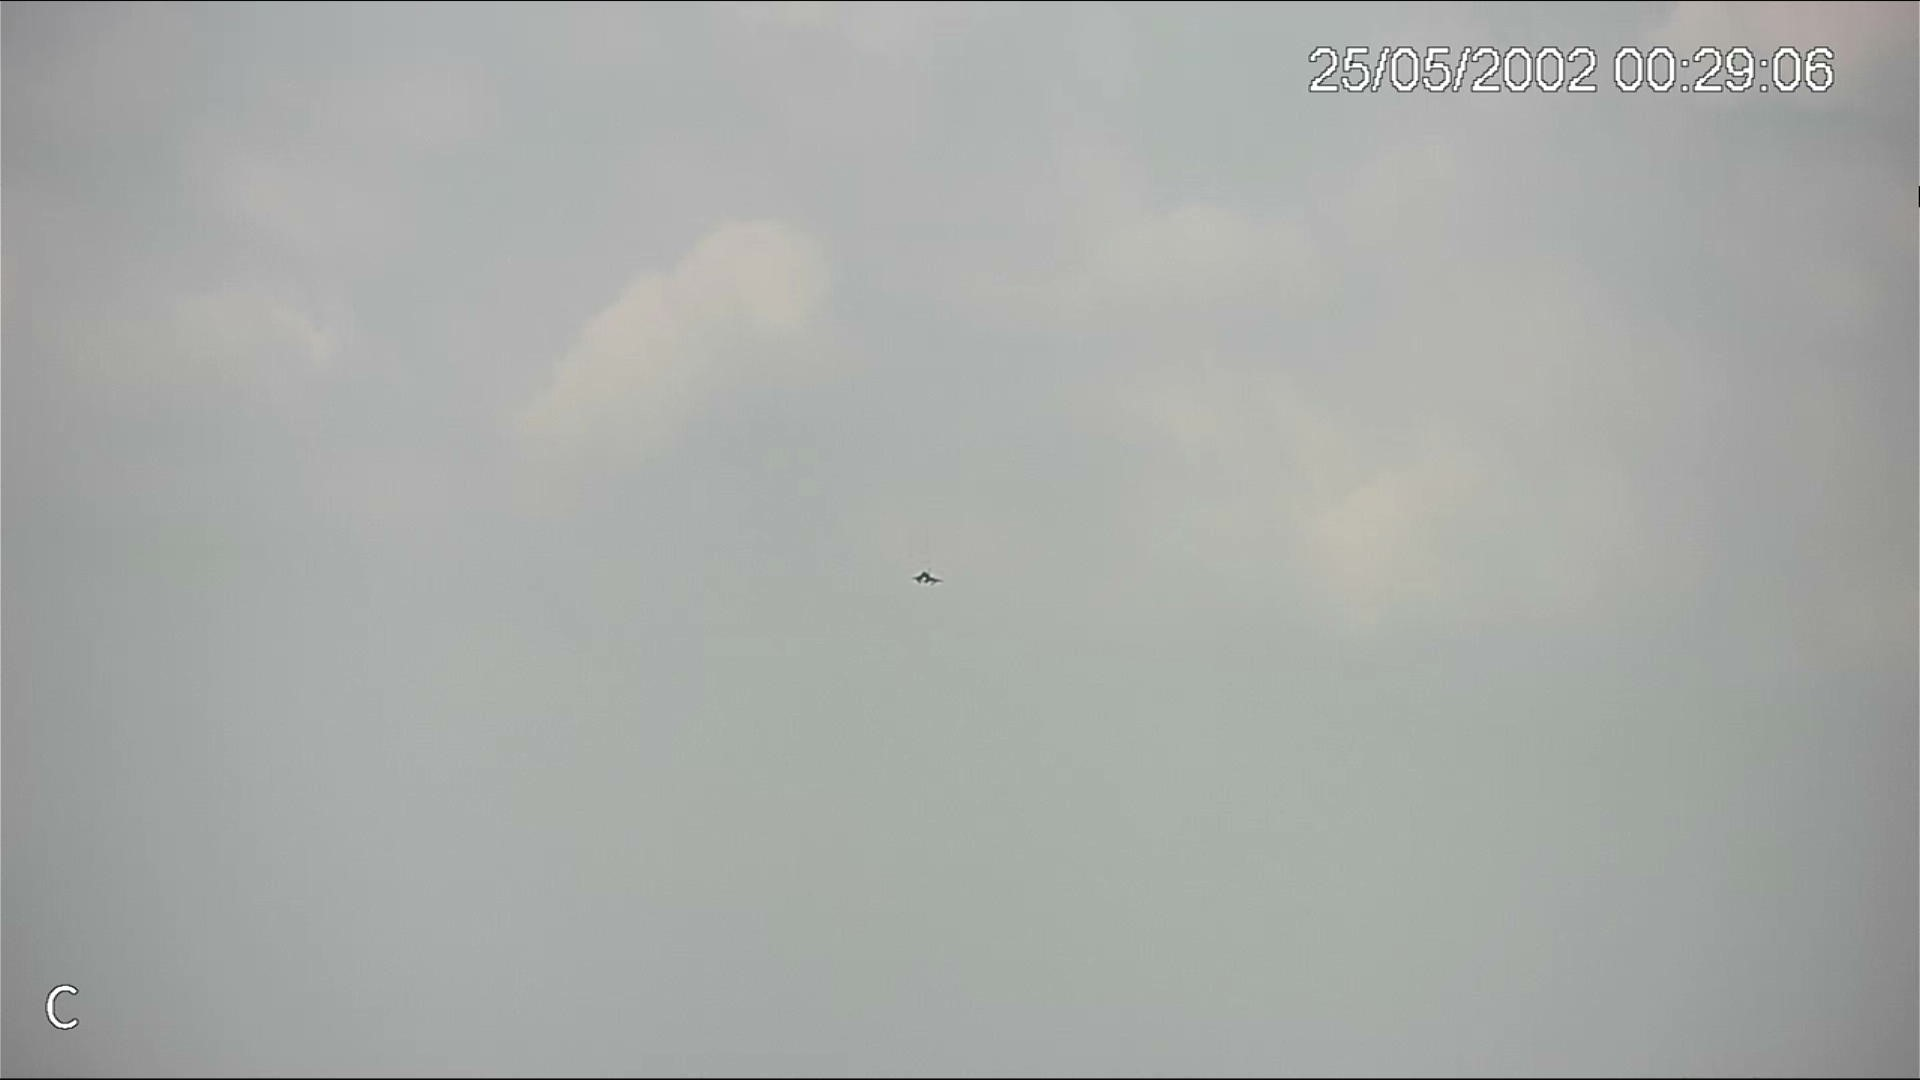SU_30: (913, 571, 940, 585)
